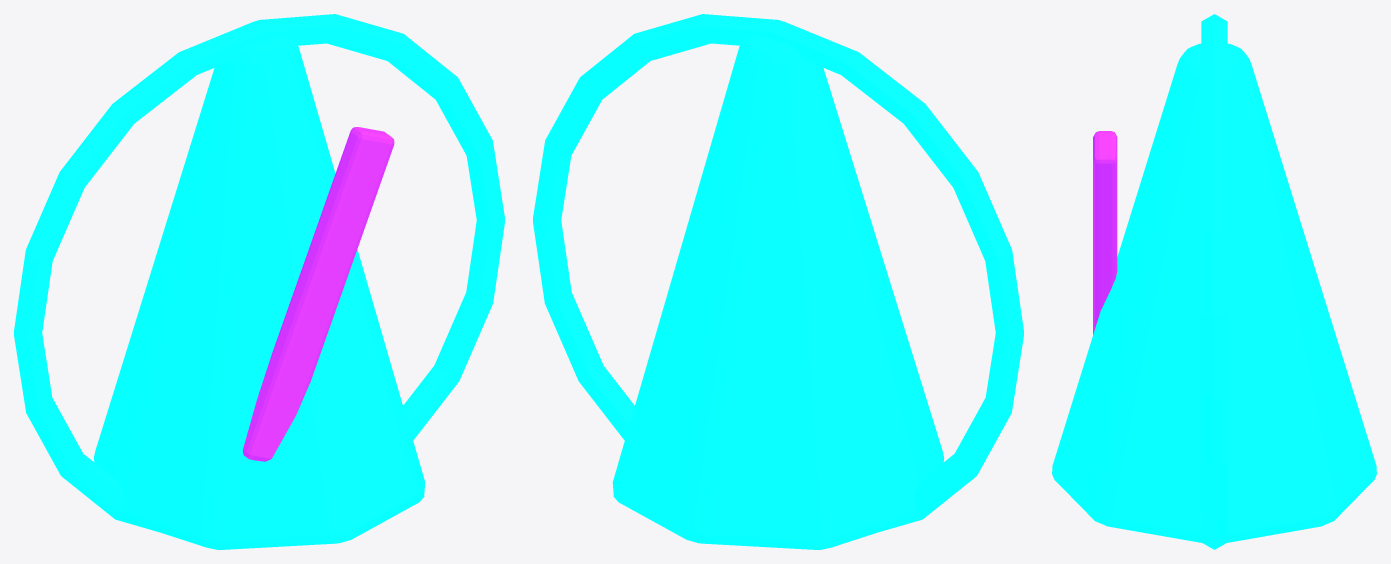
Rendered from Memory-Fragment.glb.
3 views of the same model, side by side, from view 1: azimuth 30°, elevation 25°; view 2: azimuth 150°, elevation 25°; view 3: azimuth 270°, elevation 25° (orthographic). The views are drawn at different scales.
Visible parts, largest first — view 1: MemoryShard_Main, MemoryShard_Ring, MemoryShard_Band; view 2: MemoryShard_Main, MemoryShard_Ring; view 3: MemoryShard_Main, MemoryShard_Ring, MemoryShard_Band.
Boxes of the visible parts, x1,y1,x2,y2 form: MemoryShard_Main: (93, 36, 425, 549); MemoryShard_Ring: (14, 14, 504, 531); MemoryShard_Band: (242, 127, 394, 461); MemoryShard_Main: (612, 36, 944, 549); MemoryShard_Ring: (533, 14, 1023, 531); MemoryShard_Main: (1052, 43, 1376, 543); MemoryShard_Ring: (1201, 14, 1227, 549); MemoryShard_Band: (1093, 131, 1117, 334).
Size of the model in its own units: 0.89 by 0.89 by 0.5356.
